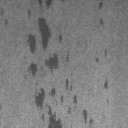red iron: (28, 16, 69, 78), (34, 78, 78, 128), (82, 109, 96, 125), (94, 48, 108, 62), (38, 0, 52, 9), (98, 2, 103, 10), (4, 18, 9, 26), (99, 18, 104, 25), (104, 82, 109, 89), (28, 10, 30, 16)
